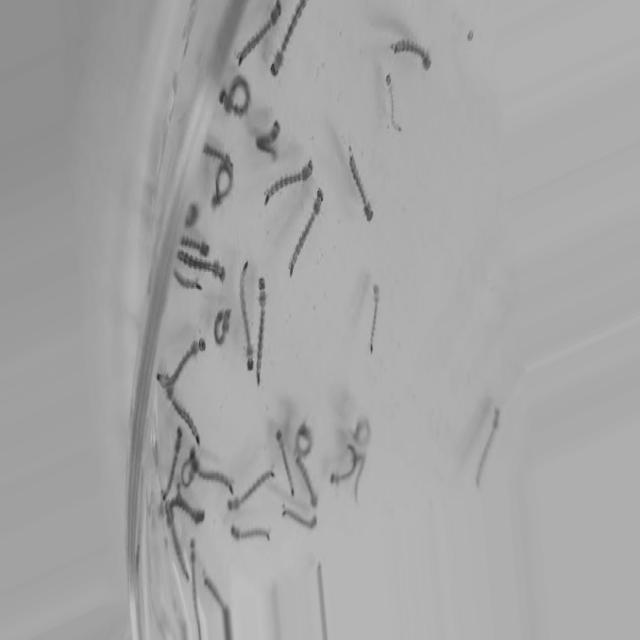larvas: (154, 371, 203, 445), (268, 0, 313, 76), (184, 439, 238, 502), (235, 6, 284, 66), (471, 407, 506, 490), (165, 332, 209, 390), (291, 188, 322, 268), (235, 260, 257, 372), (225, 466, 276, 514), (264, 159, 310, 206), (175, 248, 230, 284), (348, 150, 375, 222), (161, 428, 188, 498), (255, 275, 267, 386), (218, 76, 249, 116), (278, 428, 295, 498), (393, 41, 431, 69), (297, 458, 318, 505), (173, 268, 208, 296), (169, 516, 186, 573), (204, 141, 234, 173), (331, 446, 356, 484), (255, 122, 281, 158), (281, 506, 317, 530), (170, 498, 203, 524), (388, 76, 402, 130), (202, 572, 224, 605), (232, 524, 270, 543), (370, 282, 380, 354), (213, 168, 233, 204), (181, 234, 212, 257), (212, 307, 231, 344), (349, 415, 371, 446), (353, 454, 366, 495), (180, 205, 202, 228), (189, 535, 196, 604), (295, 427, 312, 455), (180, 459, 194, 487)
